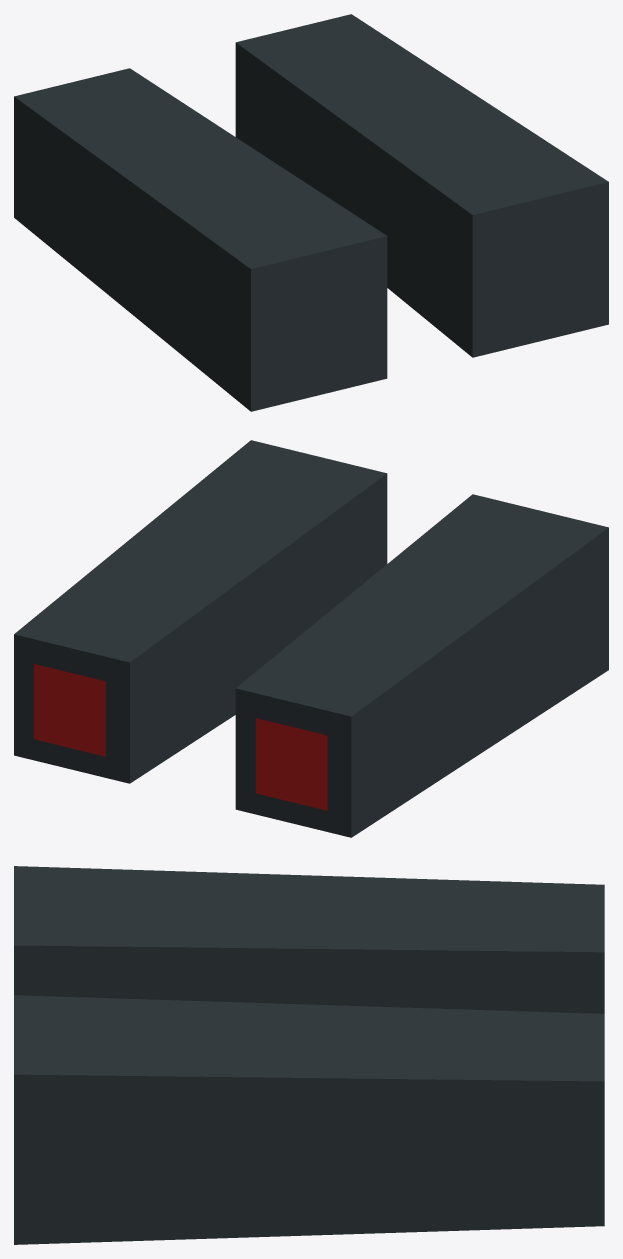
3 renders of one model, top to bottom at view 1: azimuth 30°, elevation 25°; view 2: azimuth 150°, elevation 25°; view 3: azimuth 270°, elevation 25°, orthographic. The views are drawn at different scales.
Visible parts, largest first — view 1: mount; view 2: mount; view 3: mount.
Part boxes in pixels (x1,y1,x2,y2): mount: (14, 14, 608, 411); mount: (14, 440, 608, 837); mount: (14, 866, 604, 1244).
Bounding box in the file's own units: 3.34 × 1.27 × 4.03.
